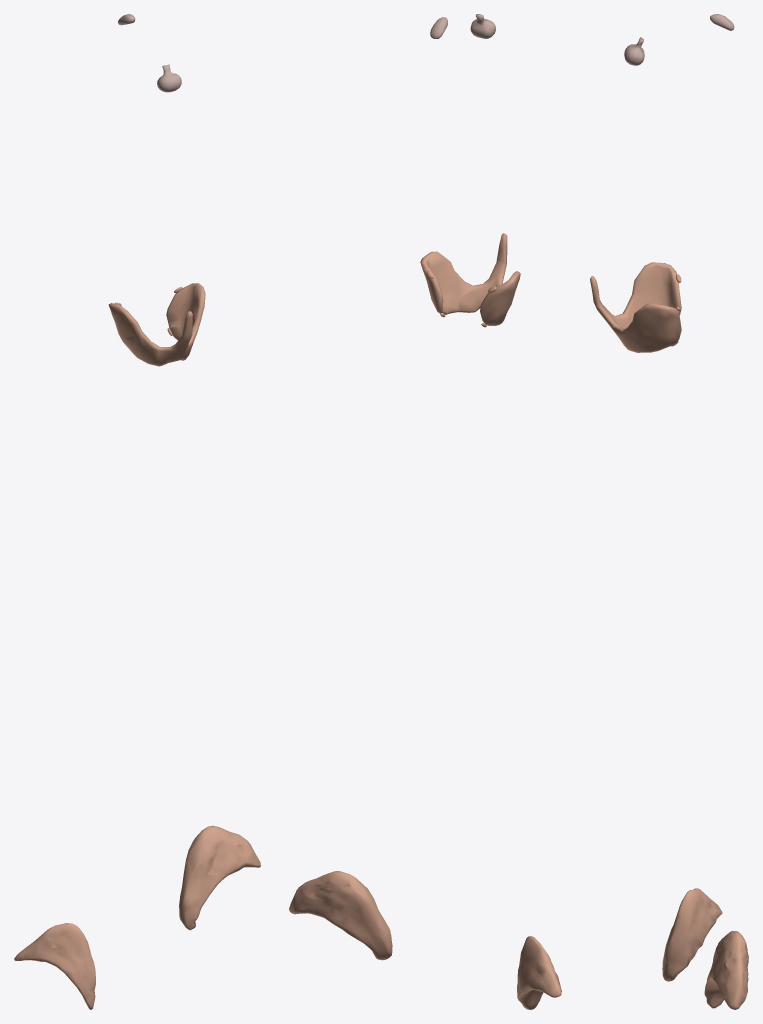
File: adult_male.endocrine.LOD1.glb
3 views of the same model, side by side, from view 1: azimuth 30°, elevation 25°; view 2: azimuth 150°, elevation 25°; view 3: azimuth 270°, elevation 25° (orthographic). The views are drawn at different scales.
Parts seen in each view (by area): view 1: ADULT.MALE.ENDOCRINE.SUPRARENAL_GLAND.L, ADULT.MALE.ENDOCRINE.THYROID_GLAND, ADULT.MALE.ENDOCRINE.SUPRARENAL_GLAND.R; view 2: ADULT.MALE.ENDOCRINE.SUPRARENAL_GLAND.L, ADULT.MALE.ENDOCRINE.THYROID_GLAND, ADULT.MALE.ENDOCRINE.SUPRARENAL_GLAND.R; view 3: ADULT.MALE.ENDOCRINE.THYROID_GLAND, ADULT.MALE.ENDOCRINE.SUPRARENAL_GLAND.R, ADULT.MALE.ENDOCRINE.SUPRARENAL_GLAND.L.
Part boxes in pixels (box(x1,y1,x2,y2)): ADULT.MALE.ENDOCRINE.SUPRARENAL_GLAND.L: box(179, 825, 260, 930); ADULT.MALE.ENDOCRINE.THYROID_GLAND: box(108, 283, 205, 366); ADULT.MALE.ENDOCRINE.SUPRARENAL_GLAND.R: box(14, 923, 95, 1009); ADULT.MALE.ENDOCRINE.SUPRARENAL_GLAND.L: box(289, 871, 392, 960); ADULT.MALE.ENDOCRINE.THYROID_GLAND: box(420, 233, 520, 325); ADULT.MALE.ENDOCRINE.SUPRARENAL_GLAND.R: box(517, 936, 561, 1009); ADULT.MALE.ENDOCRINE.THYROID_GLAND: box(590, 262, 681, 352); ADULT.MALE.ENDOCRINE.SUPRARENAL_GLAND.R: box(662, 888, 722, 981); ADULT.MALE.ENDOCRINE.SUPRARENAL_GLAND.L: box(704, 931, 748, 1009).
Bounding box in the file's own units: 0.1379 × 0.4994 × 0.0721.
